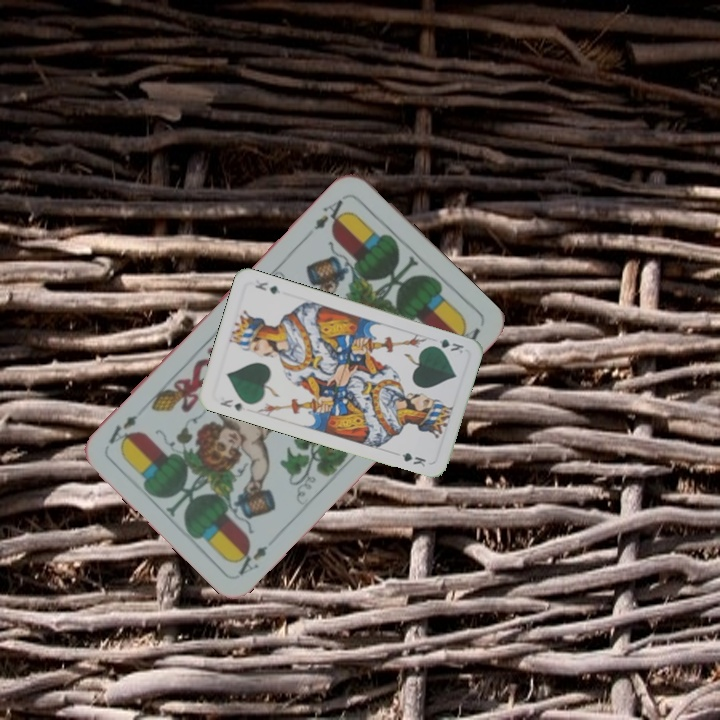EA: (309, 195, 351, 233), (231, 541, 270, 578)
GK: (426, 335, 466, 356), (216, 395, 245, 414)
